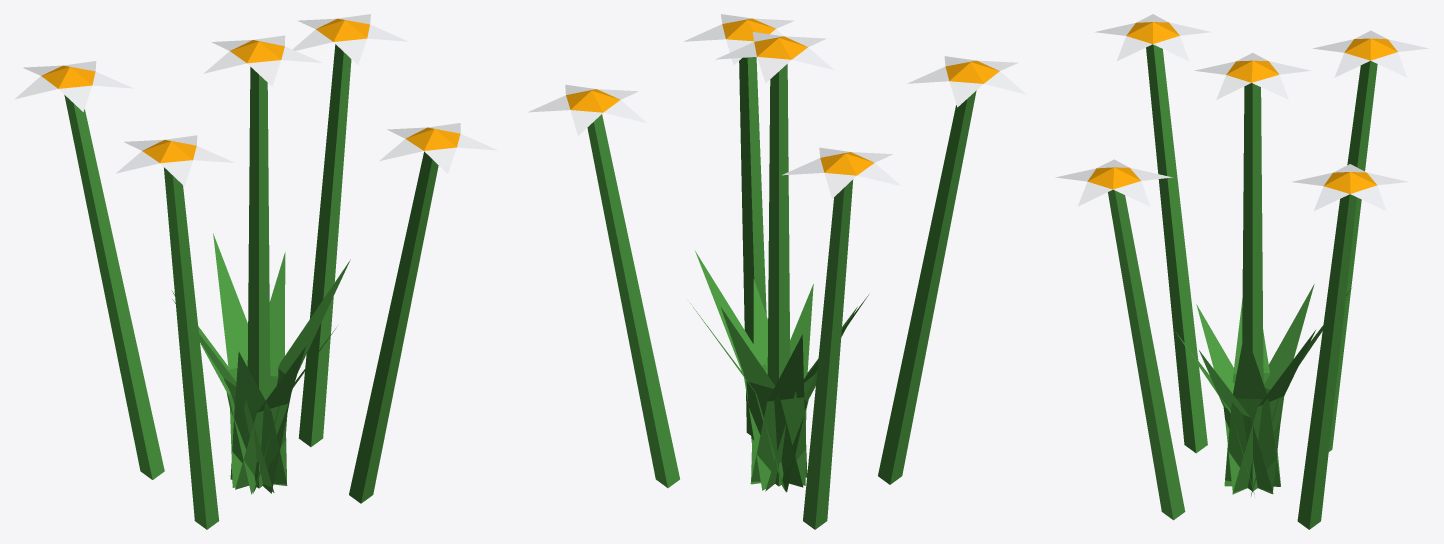
Rendered from flowers_white.glb.
3 renders of one model, left to right at view 1: azimuth 30°, elevation 25°; view 2: azimuth 150°, elevation 25°; view 3: azimuth 270°, elevation 25°, orthographic. The views are drawn at different scales.
Visible parts, largest first — view 1: flowers_white; view 2: flowers_white; view 3: flowers_white.
Boxes of the visible parts, box(x1,y1,x2,y2) form: flowers_white: box(15, 14, 498, 529); flowers_white: box(528, 14, 1026, 529); flowers_white: box(1055, 14, 1428, 529).
Size of the model in its own units: 0.3708 by 0.415 by 0.3315.
